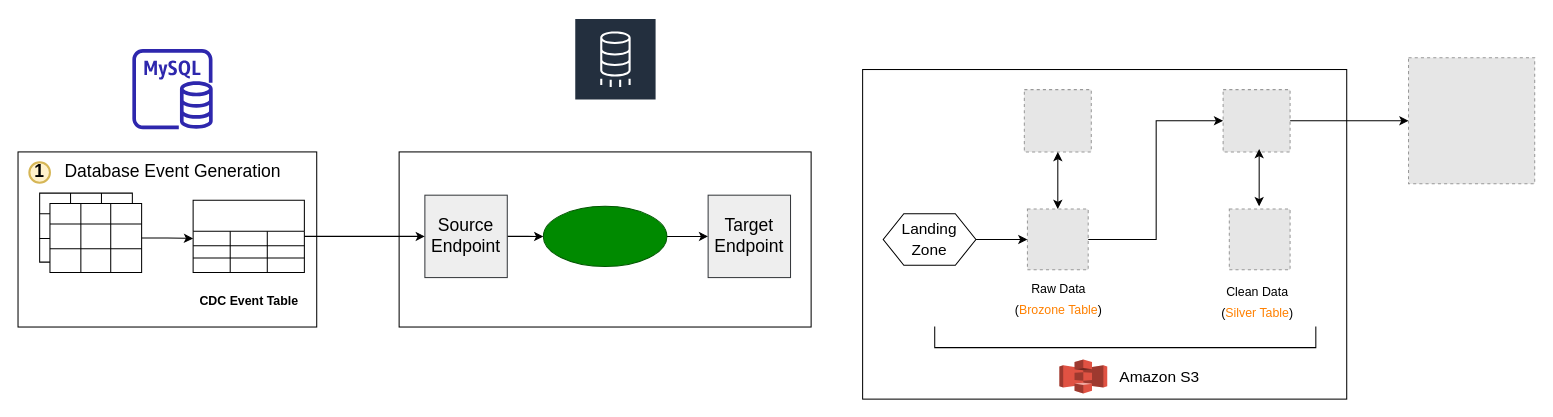
The diagram is 1553 pixels wide and 417 high, and some of its shapes have lost their labels. Grey dashed boxes stand in for pictures. The shapes that lost their labels are listed below. From the top down, each one's centre as x and y in pixels, then its label:
At point (615, 79): "AWS Database Migration Service".
At point (604, 236): "Replication Task".
